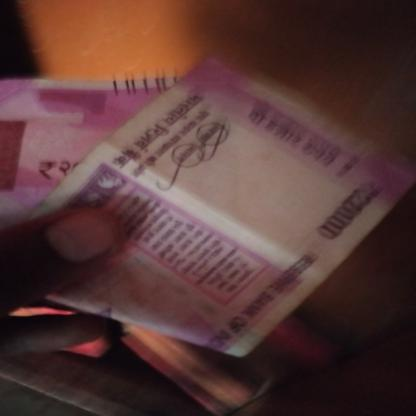New2000Back: (70, 87, 371, 346)
